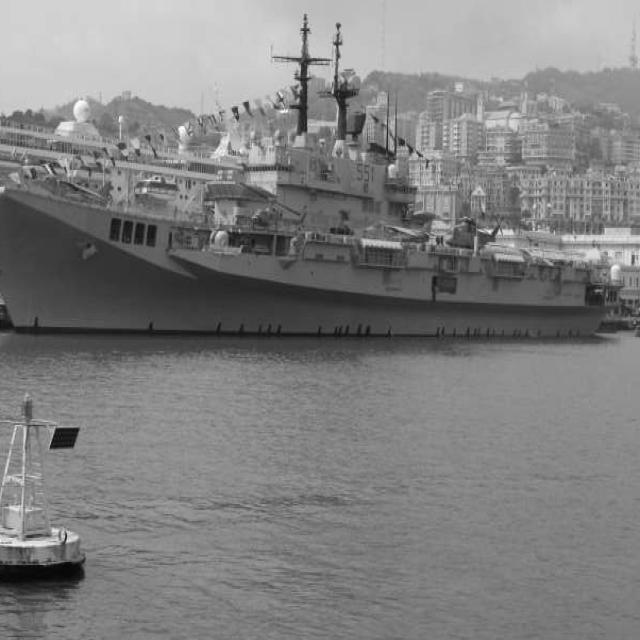Portanaves: (1, 15, 611, 342)
